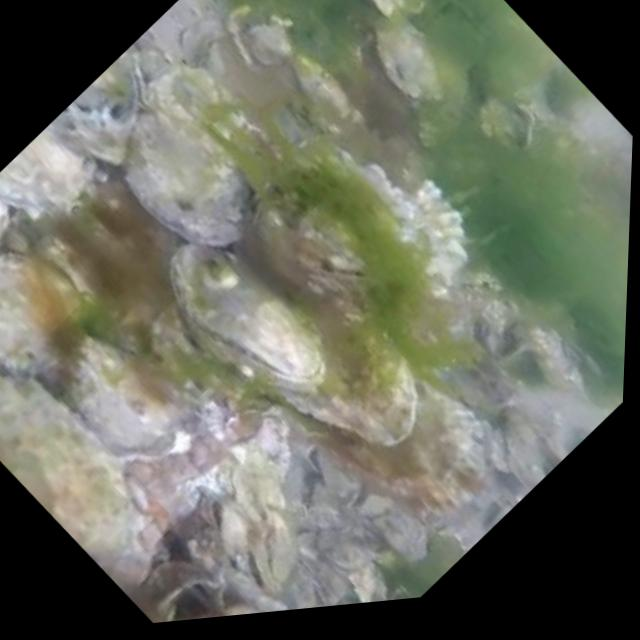Oyster-Closed: (139, 201, 343, 422), (227, 132, 418, 336), (436, 237, 519, 324)
Oyster-Indeterminate: (0, 306, 209, 618), (241, 257, 477, 506), (100, 69, 280, 260), (49, 300, 216, 482), (0, 196, 108, 424), (0, 99, 129, 248), (390, 355, 523, 498), (262, 24, 391, 164), (64, 27, 182, 148), (357, 1, 463, 116), (204, 0, 325, 98), (298, 0, 473, 65), (472, 399, 573, 506), (230, 498, 330, 605), (212, 426, 311, 531), (507, 297, 604, 401), (457, 270, 546, 364), (363, 485, 450, 578), (0, 154, 52, 281), (320, 515, 385, 585)
Oyster-Open: (11, 212, 116, 327), (140, 548, 279, 624)
